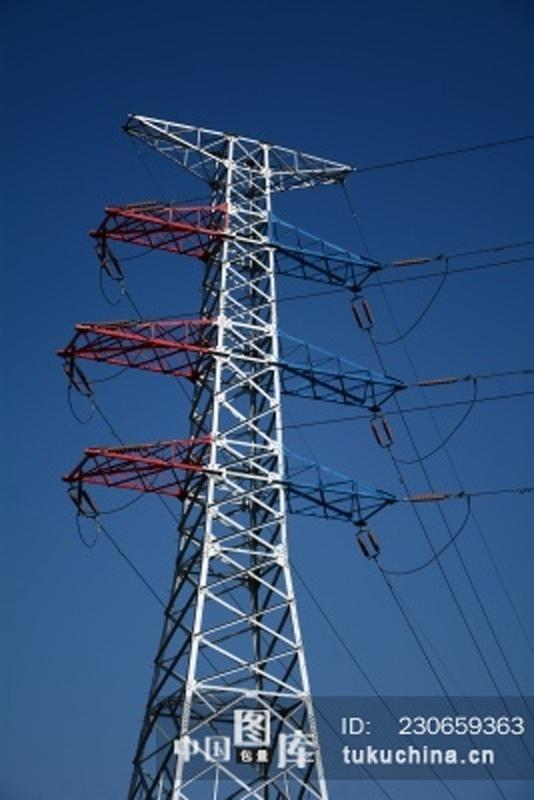power_tower: (54, 104, 466, 800)
